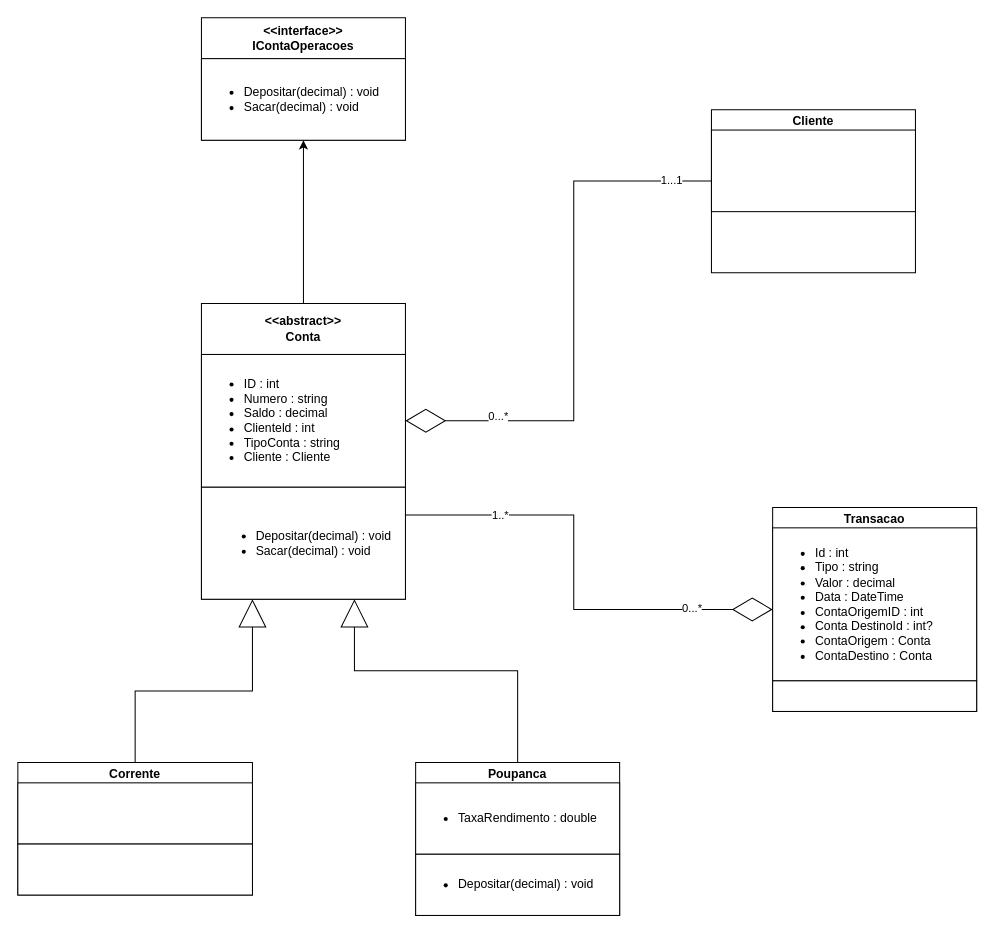
The diagram is 995 pixels wide and 933 high, and some of its shapes have lost their labels. The shapes that lost their labels are listed below. From the top down, each one's centre as x and y in pixels, then its label:
At (x=812, y=170): "Id : int Nome : string Cpf : string Contas : List <Conta>".
At (x=134, y=813): "Limite : decimal".
At (x=134, y=869): "Sacar(decimal) : void".
